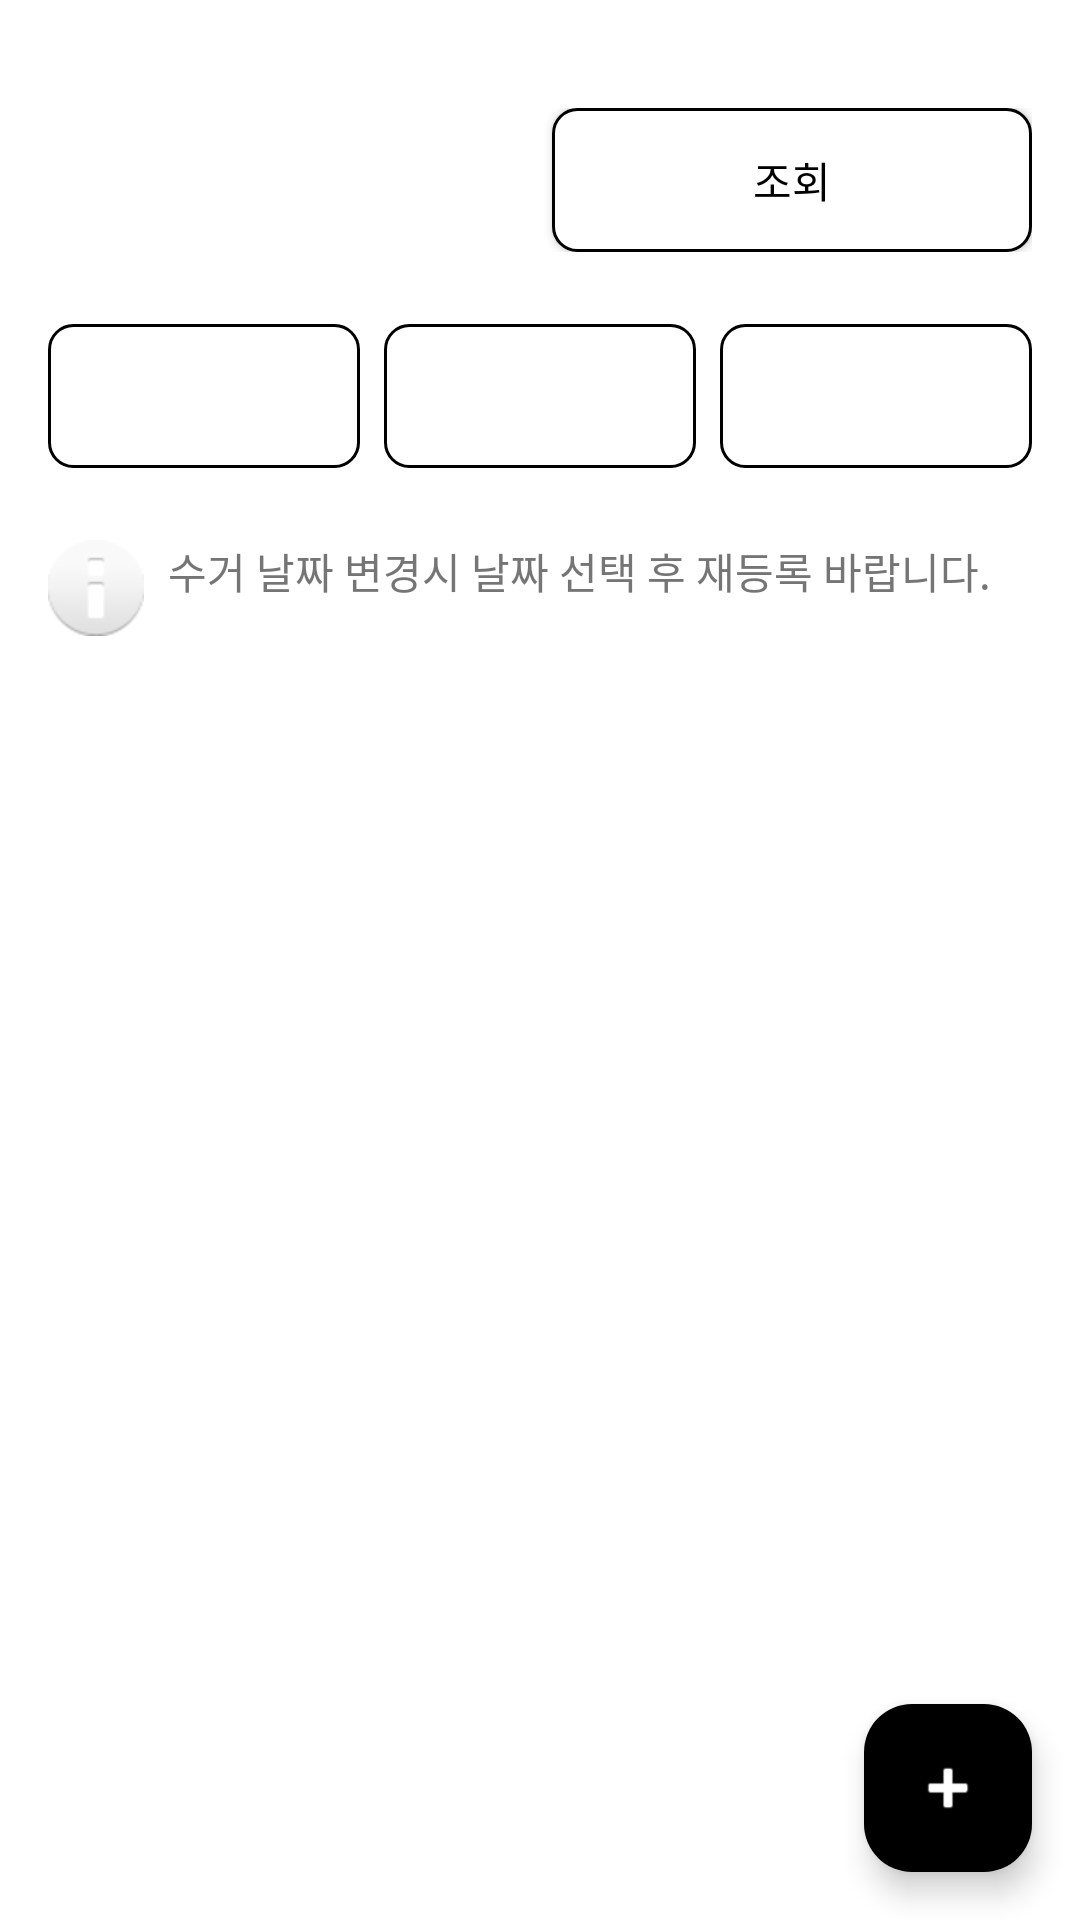

Where icons sit on this 1080px x 1920px app screen, as (x1, y1, x2, y2):
새 택배 추가: (864, 1704, 1032, 1872)
